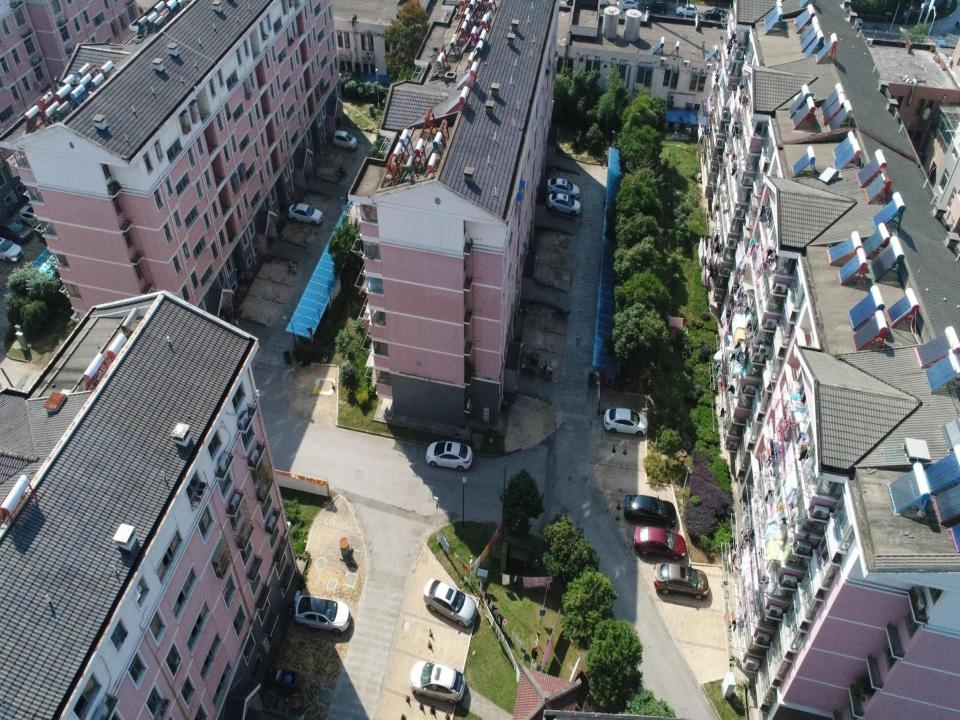car: (423, 577, 477, 628), (409, 660, 465, 704), (292, 594, 350, 634), (653, 563, 709, 600), (634, 525, 686, 561), (624, 494, 676, 529), (425, 438, 473, 472), (604, 406, 648, 437), (287, 202, 323, 225), (0, 218, 33, 243), (547, 193, 581, 216), (546, 177, 580, 199), (0, 237, 24, 263), (18, 205, 44, 227), (332, 130, 357, 150), (645, 0, 669, 15), (703, 7, 727, 22), (676, 3, 700, 17), (616, 0, 639, 12)
